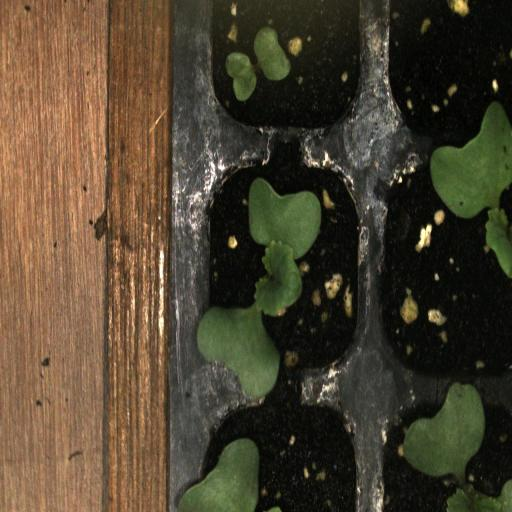noseedling: (379, 0, 512, 145)
seedling: (201, 147, 377, 392), (379, 148, 512, 394)
weak: (200, 0, 375, 146)
